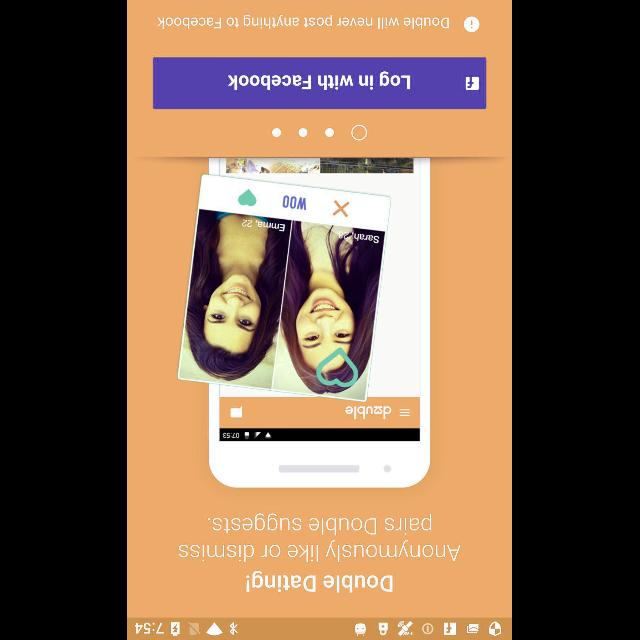icon: (464, 16, 480, 32)
image: (178, 157, 432, 488)
pageindicator: (273, 125, 369, 141)
text: (180, 512, 462, 562), (158, 15, 450, 29), (246, 570, 394, 592)
textbutton: (154, 57, 486, 109)
uppertaskbar: (128, 617, 512, 639)
